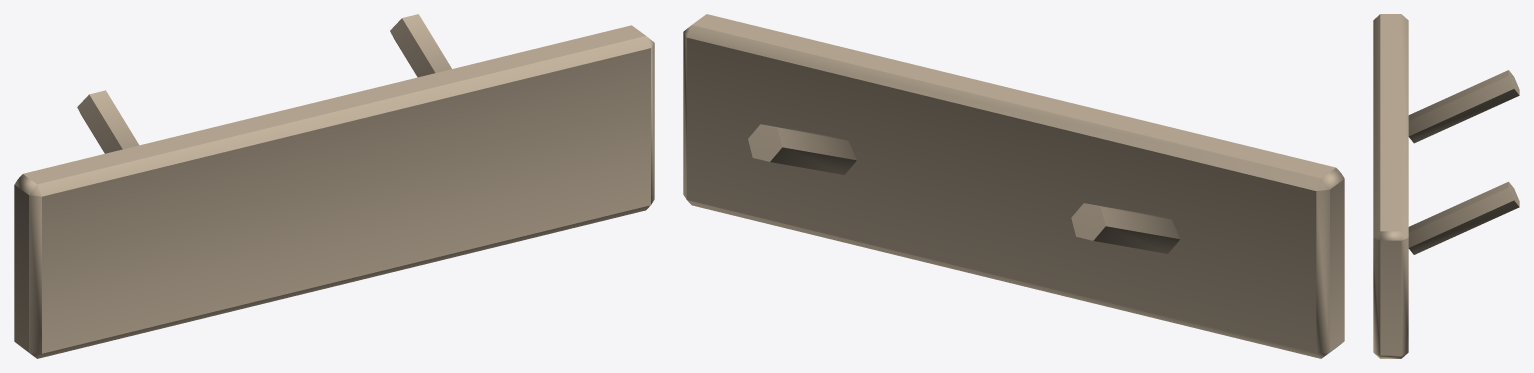
The model's file is peg_empty.glb.
3 views of the same model, side by side, from view 1: azimuth 30°, elevation 25°; view 2: azimuth 150°, elevation 25°; view 3: azimuth 270°, elevation 25° (orthographic). The views are drawn at different scales.
Parts seen in each view (by area): view 1: static; view 2: static; view 3: static.
Part boxes in pixels (bbox=[...]): static: bbox=[14, 14, 654, 358]; static: bbox=[683, 14, 1344, 358]; static: bbox=[1373, 14, 1519, 358].
Bounding box in the file's own units: 0.3 × 0.08 × 0.0831.
